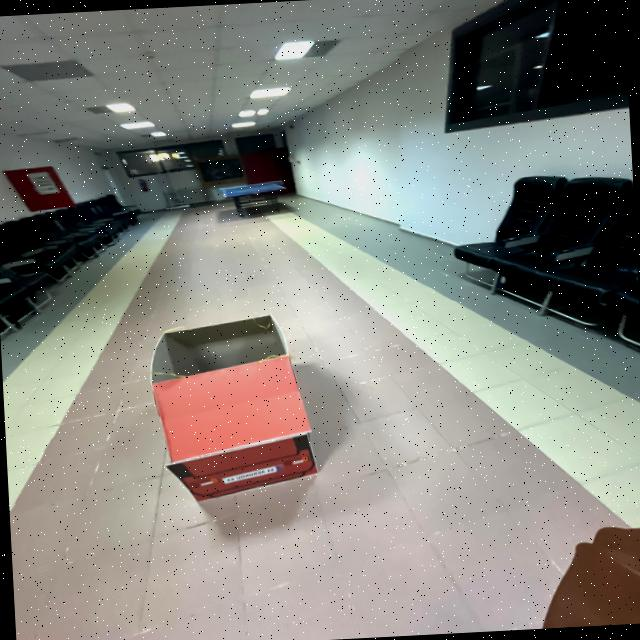red_car: (129, 298, 332, 518)
